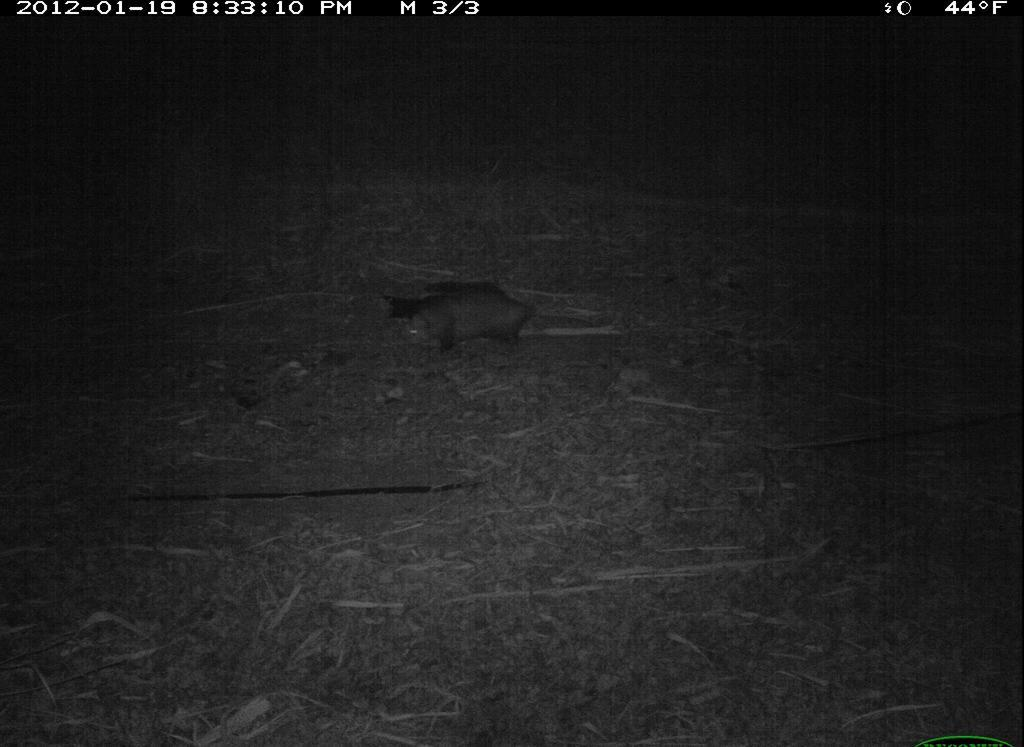opossum: (379, 272, 596, 360)
